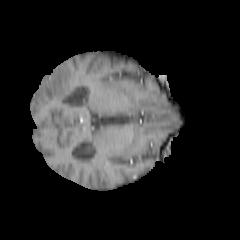glioma: (40, 66, 76, 102)
